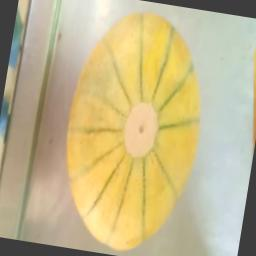Melon Ripe: (33, 0, 238, 256)
